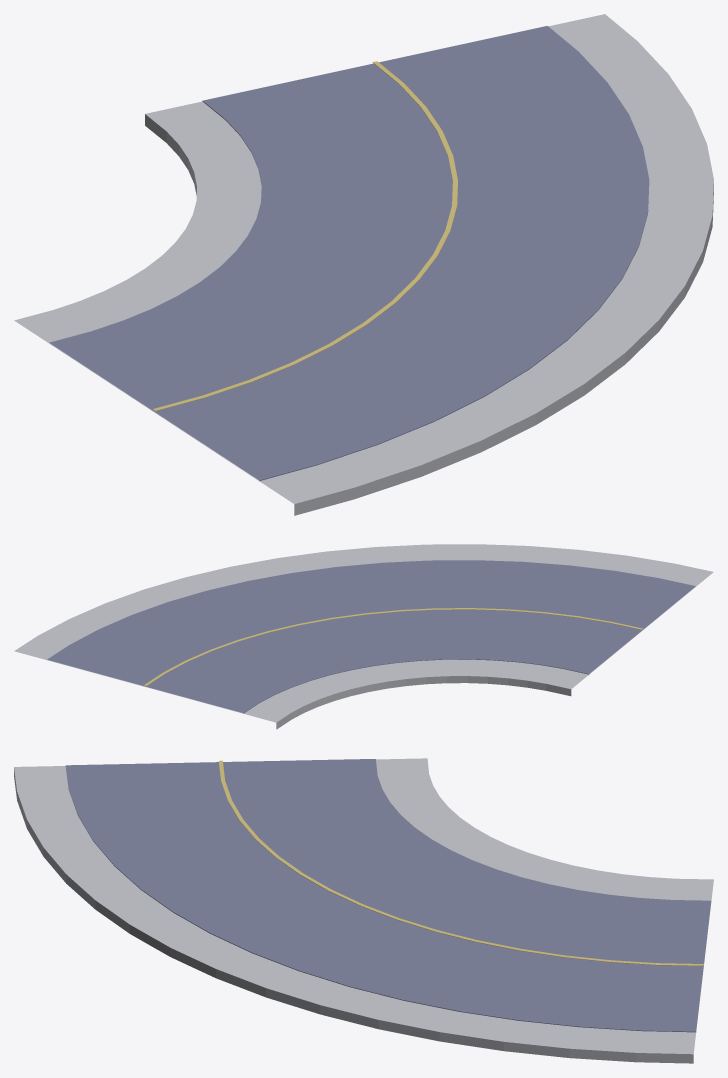
Rendered from 18_roads_plazas-04.glb.
3 views of the same model, one above another, from view 1: azimuth 30°, elevation 25°; view 2: azimuth 150°, elevation 25°; view 3: azimuth 270°, elevation 25° (orthographic). The views are drawn at different scales.
Bounding box in the file's own units: 20.29 × 0.36 × 20.29.
